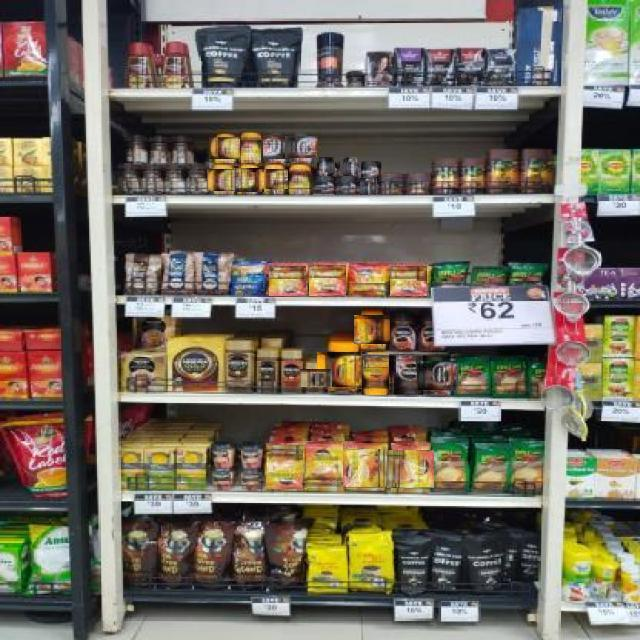Coffee: (340, 448, 389, 487), (318, 352, 368, 387), (387, 451, 434, 488), (266, 445, 303, 489), (307, 445, 343, 489), (226, 340, 253, 391), (393, 354, 423, 395), (308, 264, 346, 296), (418, 360, 458, 390), (268, 265, 306, 296), (390, 310, 419, 350), (390, 265, 427, 296), (351, 264, 387, 295), (362, 354, 389, 395), (353, 315, 390, 344), (256, 349, 278, 395), (285, 136, 318, 158), (234, 168, 264, 192), (209, 136, 240, 159), (208, 168, 239, 191), (261, 136, 291, 159), (239, 133, 263, 161), (288, 166, 311, 195), (300, 369, 332, 387), (260, 169, 288, 189), (337, 176, 358, 194), (313, 177, 334, 195), (340, 157, 358, 176), (318, 158, 335, 177), (361, 177, 377, 195), (362, 160, 382, 174)
